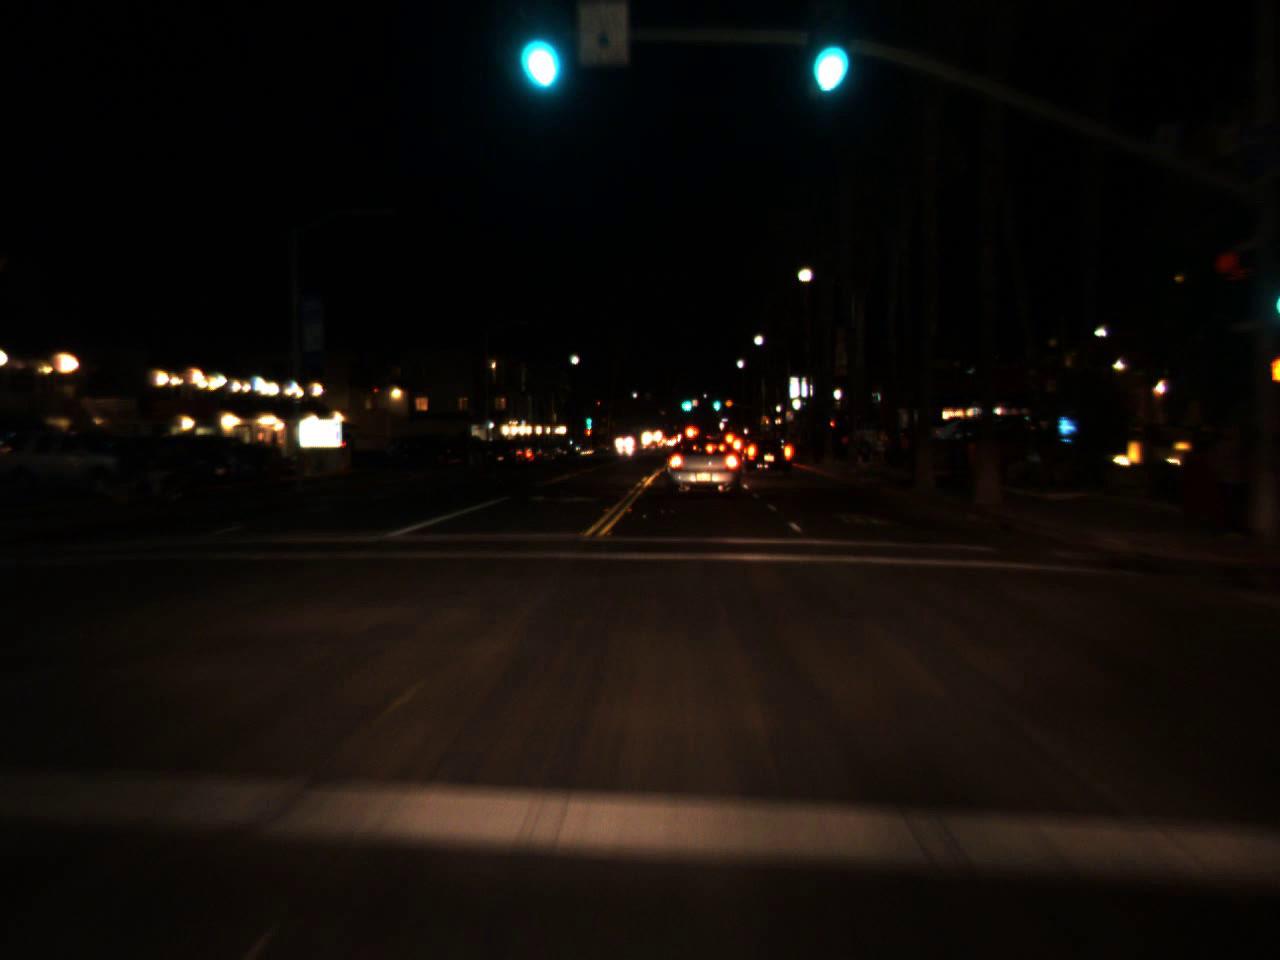go: (805, 14, 848, 98), (520, 7, 559, 94), (677, 388, 693, 415), (585, 405, 592, 432), (711, 393, 721, 411)
